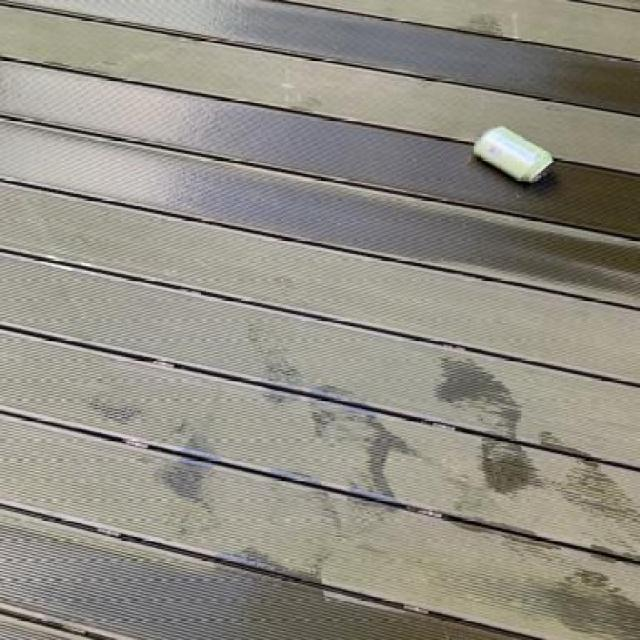trash: (476, 126, 561, 186)
